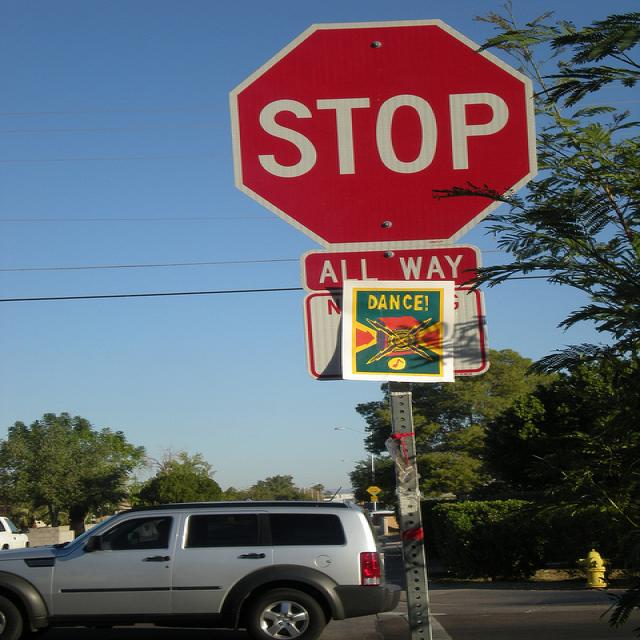Vehicle: (0, 502, 408, 633), (0, 517, 31, 549)
